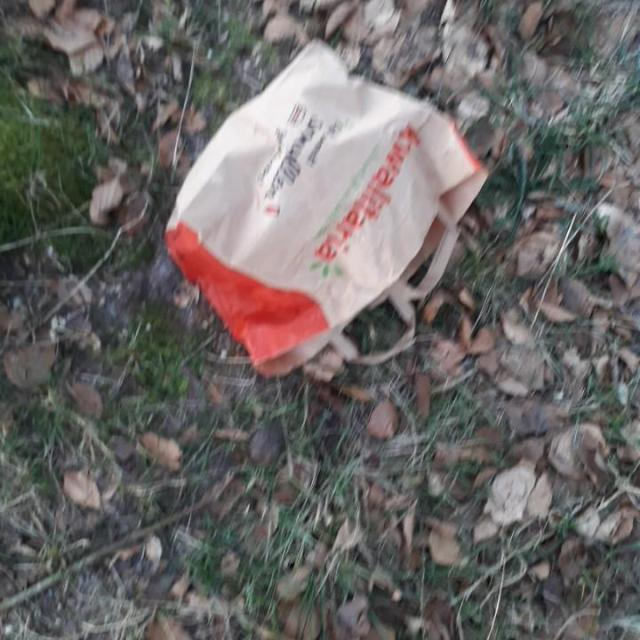Paper: (164, 38, 492, 383)
